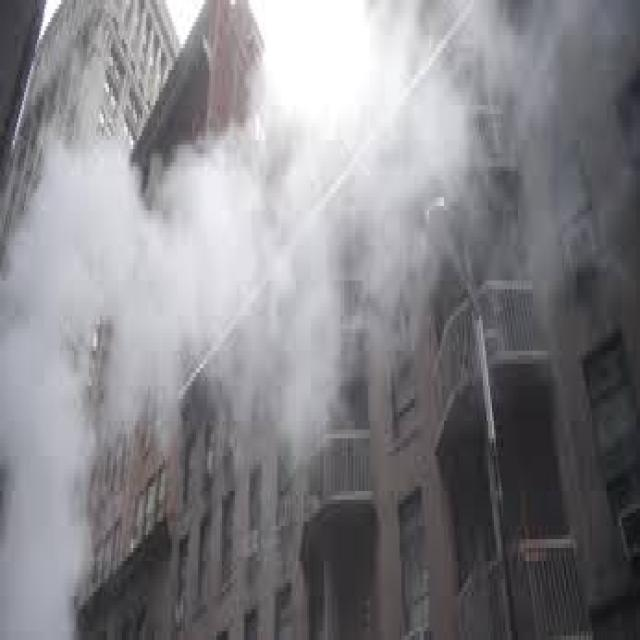smoke: (26, 171, 326, 373), (270, 10, 448, 176), (13, 380, 83, 629)
